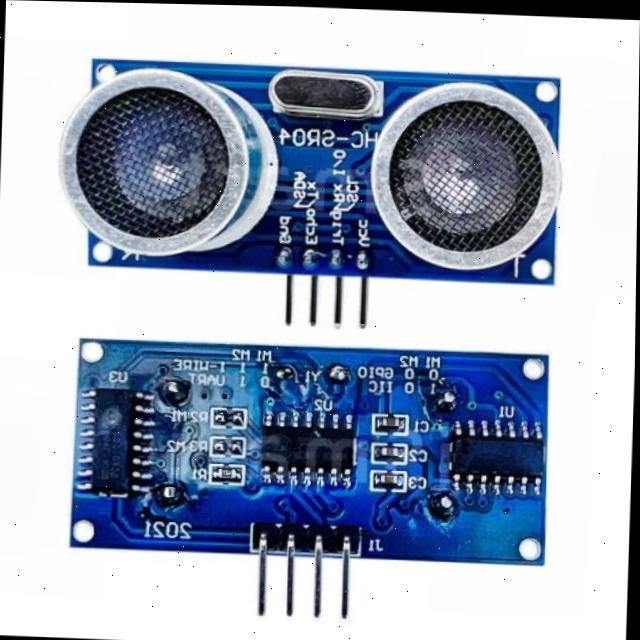Ultrasonic Sensor: (50, 328, 569, 626), (55, 40, 574, 332)
